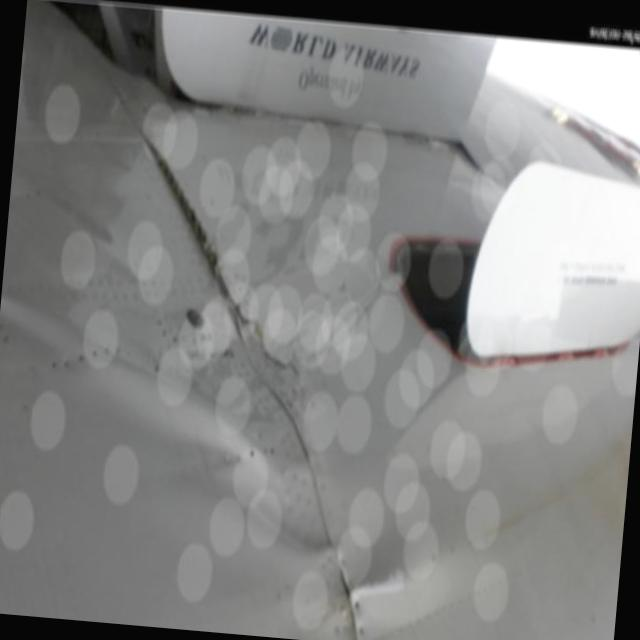crack: (225, 302, 307, 384)
dent: (0, 297, 354, 559)
